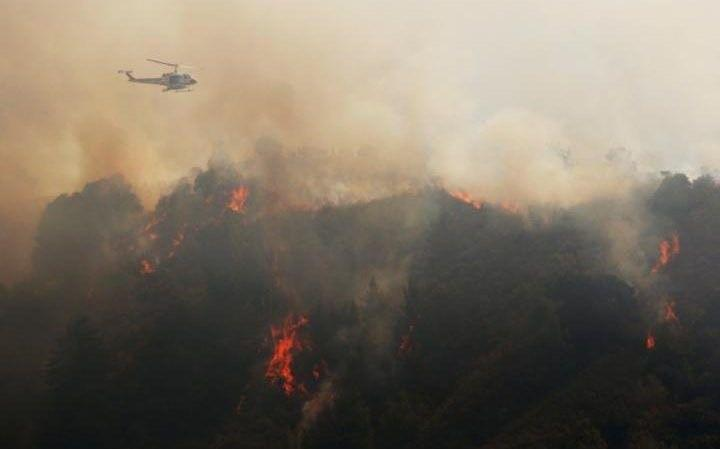fire: (254, 306, 323, 393), (644, 293, 683, 358), (446, 186, 496, 214), (227, 187, 265, 219), (644, 239, 673, 270), (137, 252, 159, 275)
smoke: (10, 104, 185, 218), (496, 91, 617, 215)
